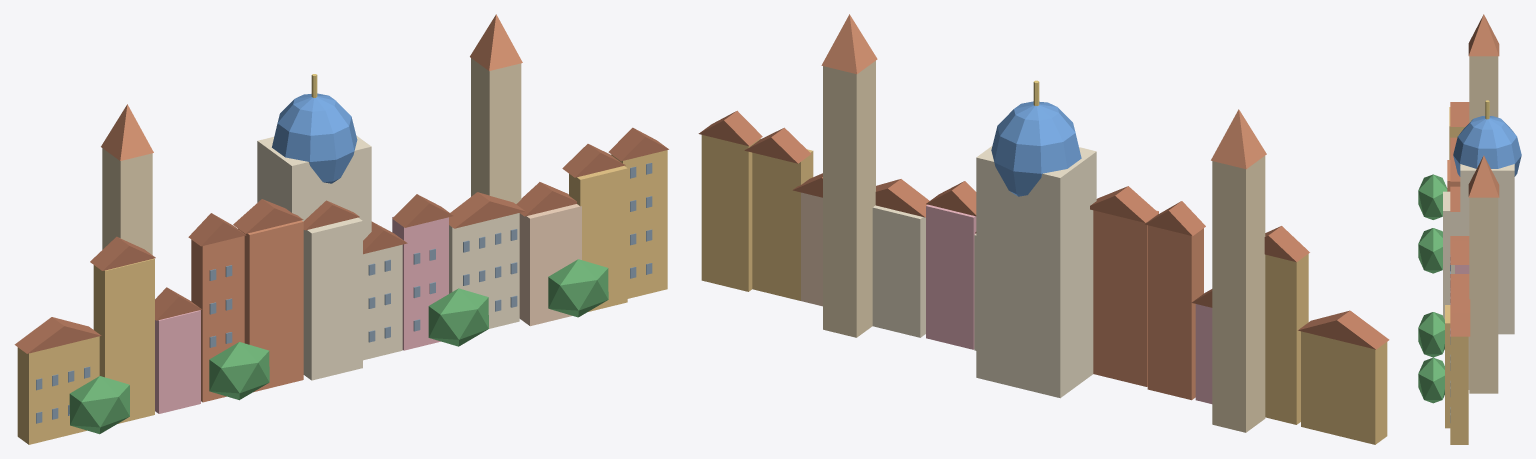
The model's file is env_plaza_skybacking_01.glb.
The picture shows the model from 3 angles, left to right: view 1: azimuth 30°, elevation 25°; view 2: azimuth 150°, elevation 25°; view 3: azimuth 270°, elevation 25°; orthographic projection. The views are drawn at different scales.
Parts seen in each view (by area): view 1: env_plaza_skybacking_01_body; view 2: env_plaza_skybacking_01_body; view 3: env_plaza_skybacking_01_body.
Part boxes in pixels (box(x1,y1,x2,y2)): env_plaza_skybacking_01_body: box(14, 14, 668, 444); env_plaza_skybacking_01_body: box(698, 14, 1389, 444); env_plaza_skybacking_01_body: box(1418, 14, 1521, 444).
Size of the model in its own units: 32.22 by 14.2 by 5.73.
